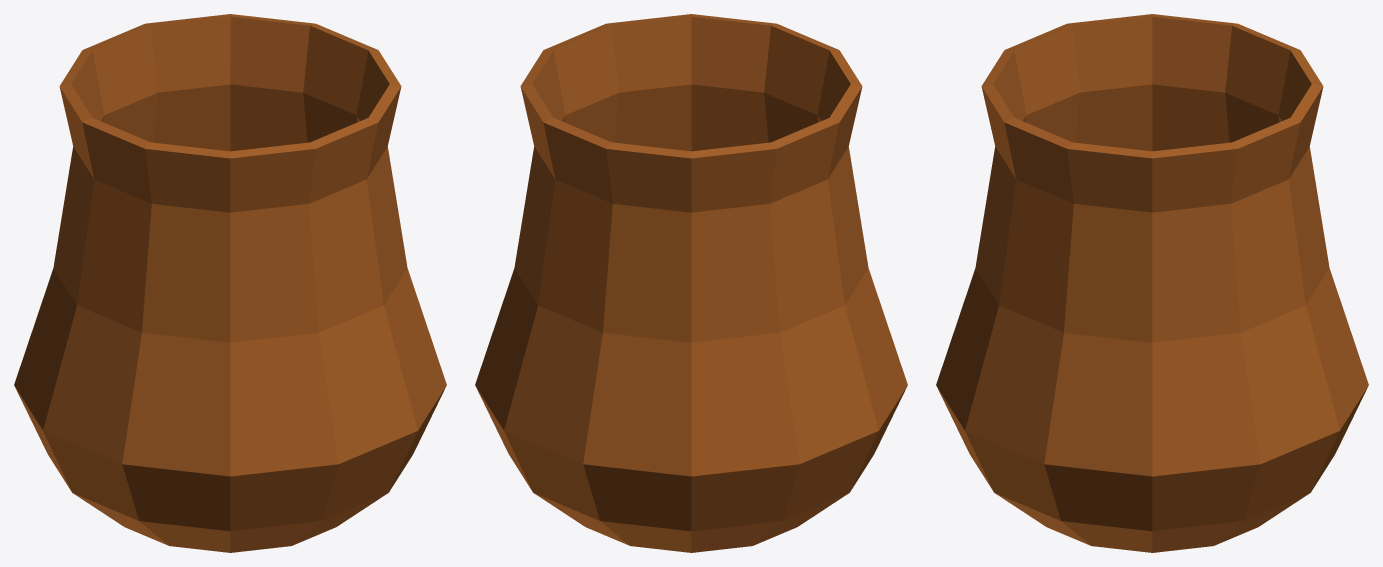
Rendered from SM_pottery_003.FBX.
3 renders of one model, left to right at view 1: azimuth 30°, elevation 25°; view 2: azimuth 150°, elevation 25°; view 3: azimuth 270°, elevation 25°, orthographic.
Parts seen in each view (by area): view 1: Object087; view 2: Object087; view 3: Object087.
Boxes of the visible parts, box(x1,y1,x2,y2) form: Object087: box(14, 14, 446, 552); Object087: box(475, 14, 907, 552); Object087: box(936, 14, 1368, 552).
Bounding box in the file's own units: 62.62 × 66.58 × 62.62.
